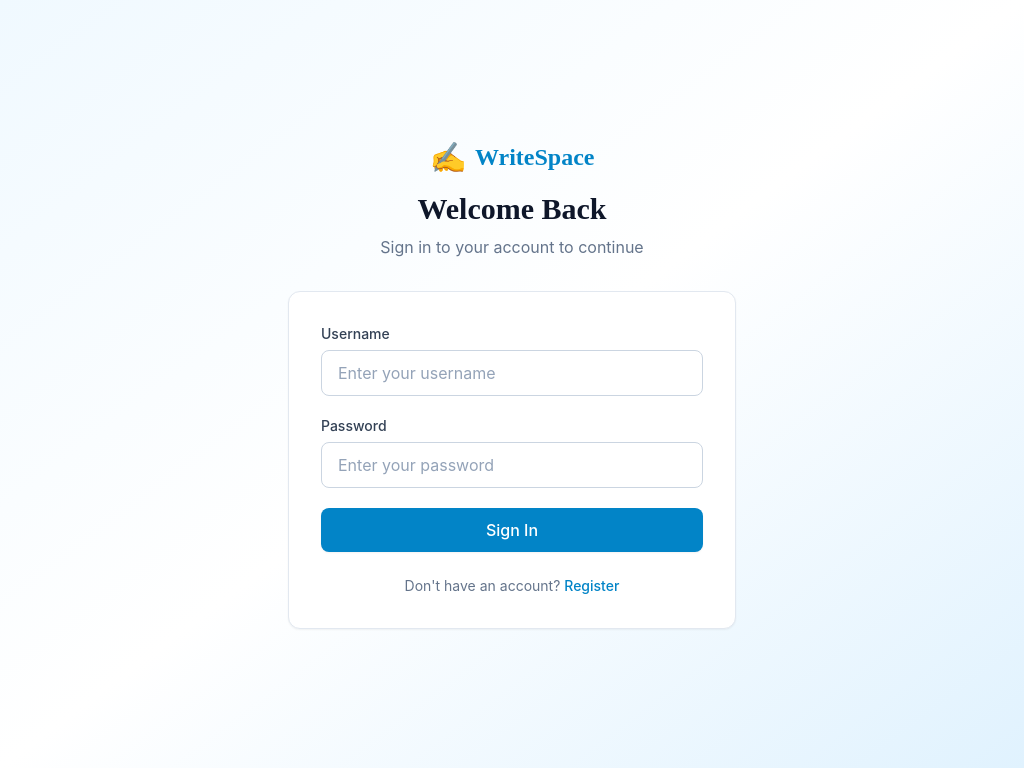
Test: App › navigation › admin login redirects to /dashboard
This screenshot has width=1024, height=768.
Type "admin" into the field labelled "Username" at {"x": 512, "y": 373}, box [321,350,703,396]
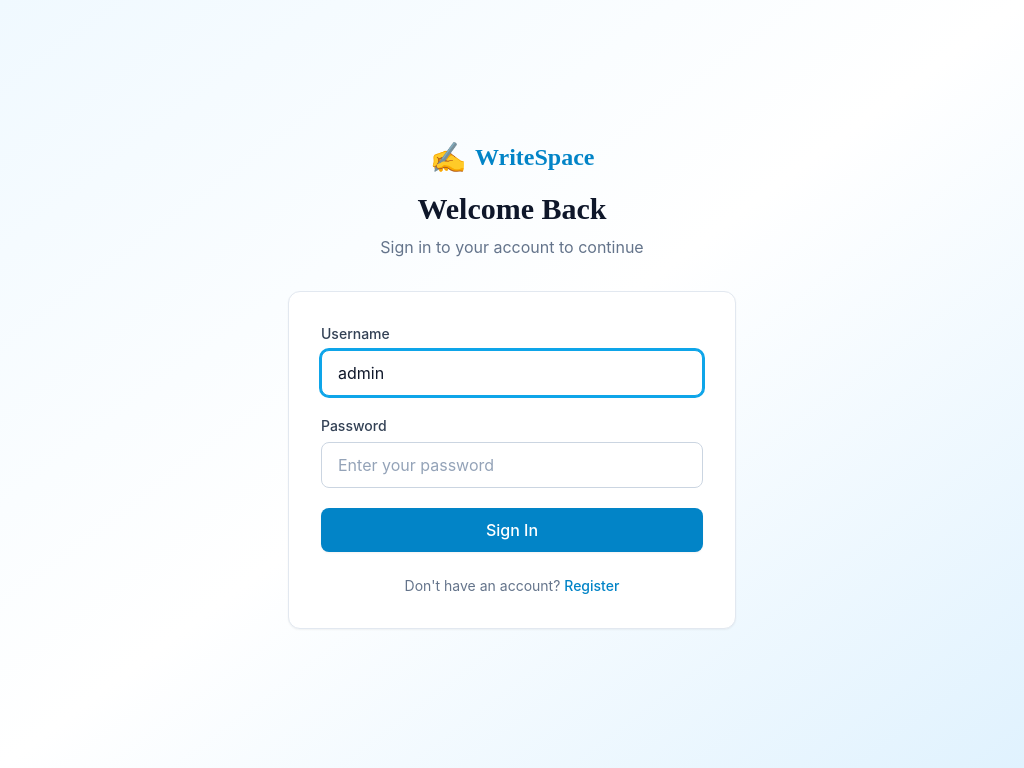
Type "admin123" into the password field labelled "Password" at {"x": 512, "y": 465}, box [321,442,703,488]
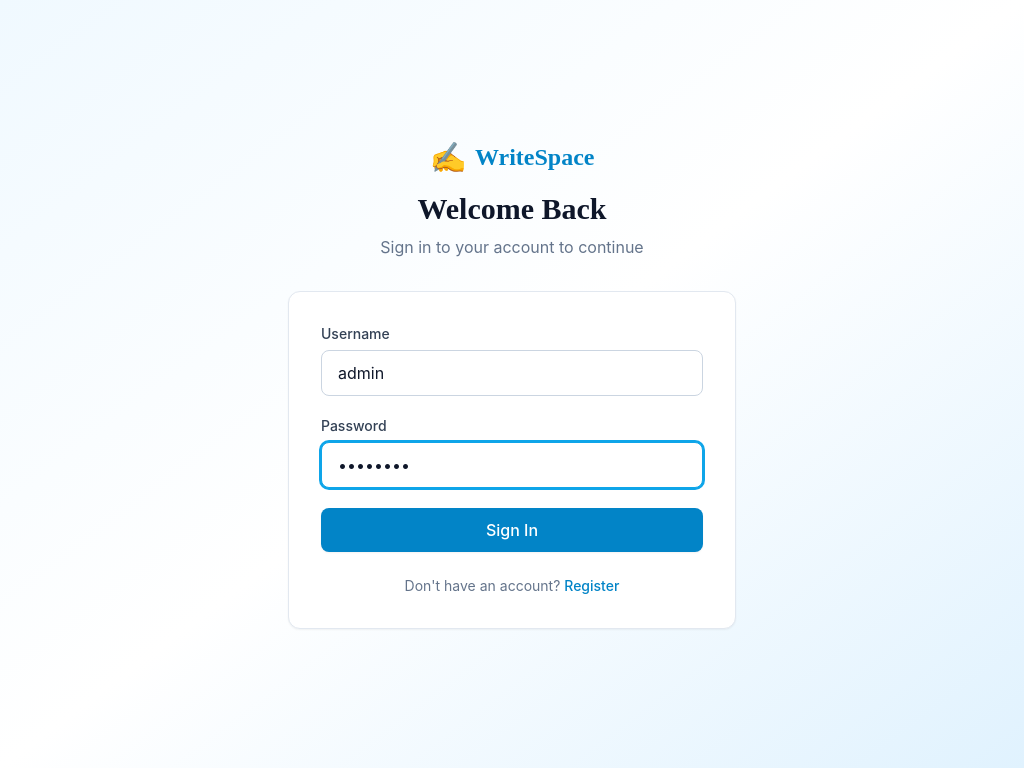
Click the button "Sign In" at {"x": 512, "y": 530}, box [321,508,703,552]
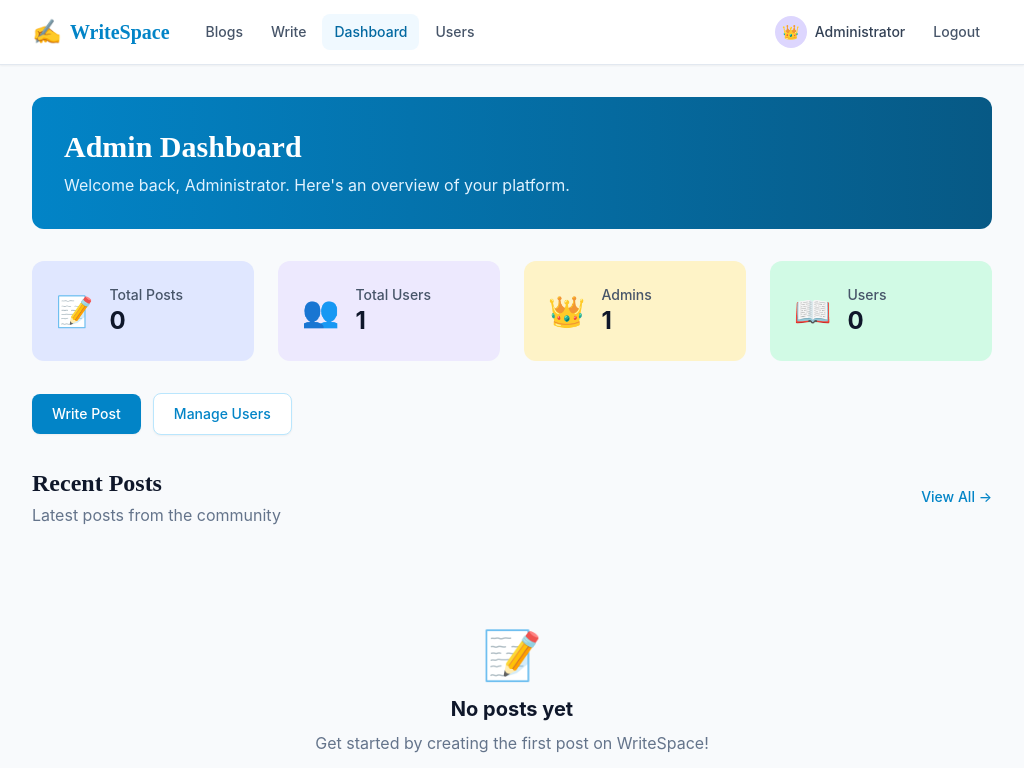
Expected: the heading "Admin Dashboard" is shown, [64,130,302,163]
